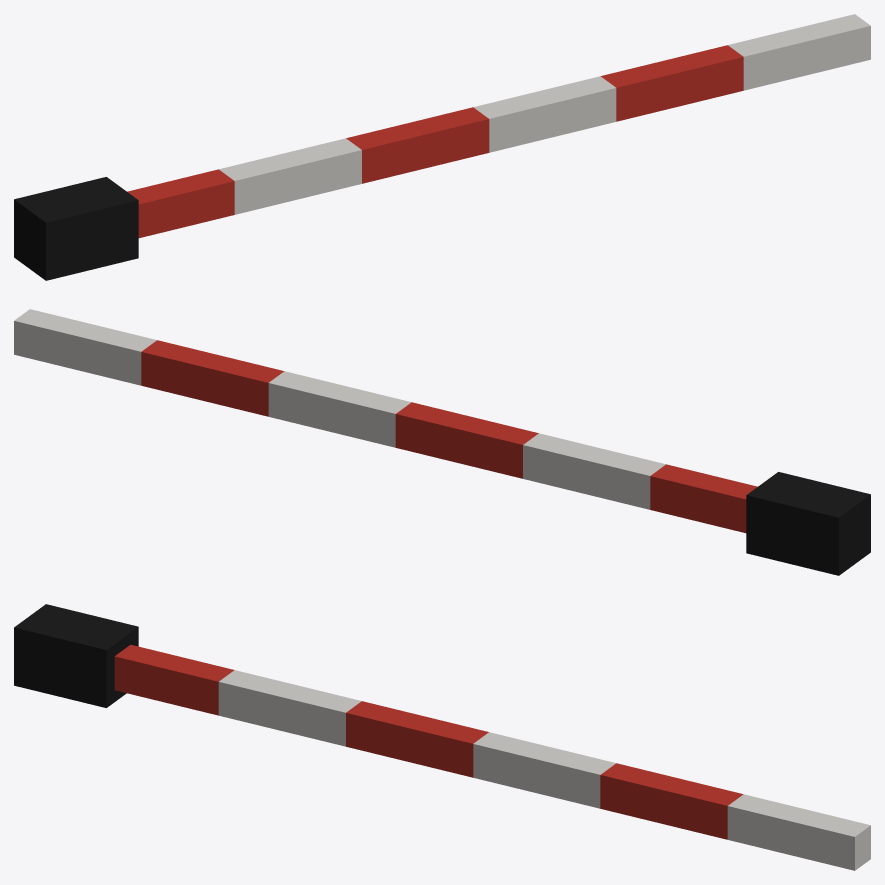
File: ub_barrier.glb
3 renders of one model, top to bottom at view 1: azimuth 30°, elevation 25°; view 2: azimuth 150°, elevation 25°; view 3: azimuth 330°, elevation 25°, orthographic.
Parts seen in each view (by area): view 1: ub_barrier; view 2: ub_barrier; view 3: ub_barrier.
Part boxes in pixels (x1=…): ub_barrier: x1=14, y1=14, x2=870, y2=280; ub_barrier: x1=14, y1=309, x2=870, y2=575; ub_barrier: x1=14, y1=604, x2=870, y2=870.
Bounding box in the file's own units: 3.6 × 0.24 × 0.24.
